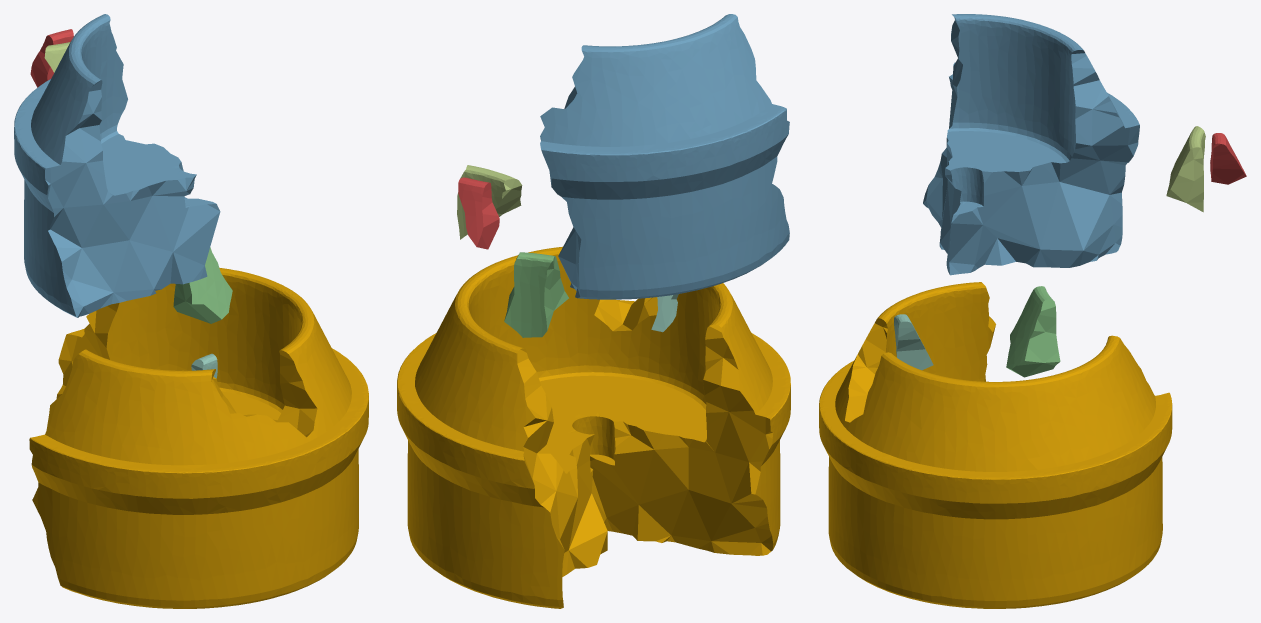
The model's file is fractured_37_6pcs_transformed.glb.
3 views of the same model, side by side, from view 1: azimuth 30°, elevation 25°; view 2: azimuth 150°, elevation 25°; view 3: azimuth 270°, elevation 25° (orthographic). The views are drawn at different scales.
Visible parts, largest first — view 1: piece_0.obj, piece_2.obj, piece_3.obj, piece_1.obj; view 2: piece_0.obj, piece_2.obj, piece_3.obj, piece_1.obj, piece_5.obj, piece_4.obj; view 3: piece_0.obj, piece_2.obj, piece_3.obj, piece_5.obj, piece_4.obj, piece_1.obj.
Part boxes in pixels (left/top/right/bottom): piece_0.obj: left=29, top=268, right=368, bottom=608; piece_2.obj: left=14, top=14, right=220, bottom=317; piece_3.obj: left=173, top=247, right=232, bottom=323; piece_1.obj: left=30, top=29, right=73, bottom=87; piece_0.obj: left=397, top=246, right=790, bottom=608; piece_2.obj: left=540, top=14, right=789, bottom=299; piece_3.obj: left=504, top=252, right=568, bottom=337; piece_1.obj: left=458, top=177, right=499, bottom=249; piece_5.obj: left=457, top=165, right=522, bottom=239; piece_4.obj: left=651, top=294, right=678, bottom=332; piece_0.obj: left=819, top=282, right=1172, bottom=608; piece_2.obj: left=923, top=14, right=1139, bottom=275; piece_3.obj: left=1006, top=286, right=1060, bottom=377; piece_5.obj: left=1166, top=126, right=1205, bottom=212; piece_4.obj: left=894, top=314, right=933, bottom=370; piece_1.obj: left=1210, top=133, right=1246, bottom=184.
Size of the model in its own units: 1 by 1.49 by 1.21.
